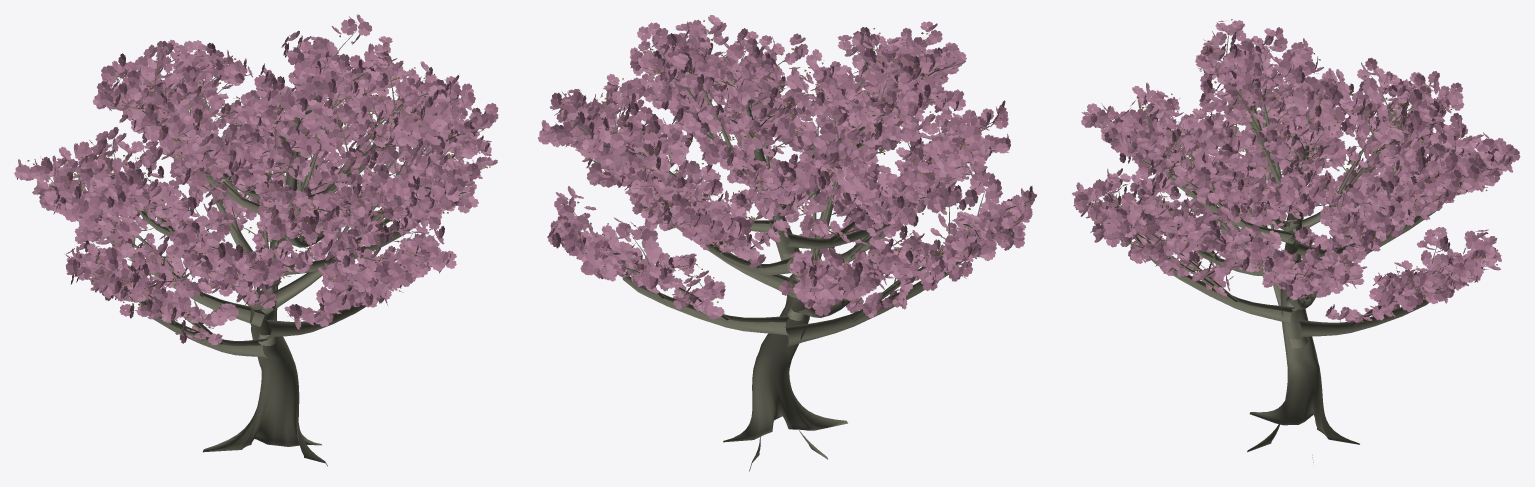
3 renders of one model, left to right at view 1: azimuth 30°, elevation 25°; view 2: azimuth 150°, elevation 25°; view 3: azimuth 270°, elevation 25°, orthographic. The views are drawn at different scales.
Parts seen in each view (by area): view 1: leaves, branches; view 2: leaves, branches; view 3: leaves, branches.
Boxes of the visible parts, x1,y1,x2,y2 form: leaves: (14,14,498,345); branches: (46,29,486,466); leaves: (538,15,1036,319); branches: (546,33,1026,471); leaves: (1072,19,1520,322); branches: (1088,28,1502,462).
Size of the model in its own units: 9.5 by 8.22 by 9.03.
